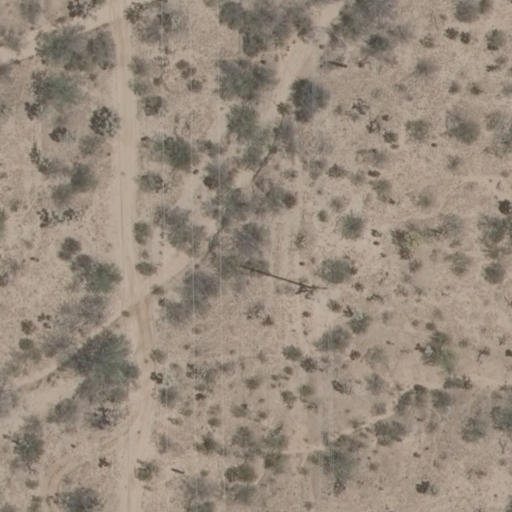DT: (295, 280, 331, 299)
